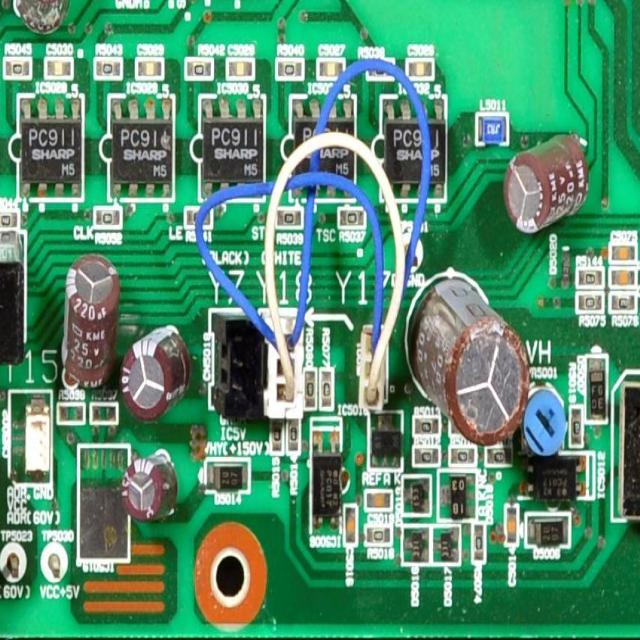IC: (109, 96, 173, 200), (19, 95, 81, 197), (201, 98, 262, 198), (384, 99, 445, 197), (293, 101, 354, 195), (80, 448, 128, 560), (312, 428, 344, 526), (520, 454, 586, 500), (369, 412, 403, 470), (438, 472, 478, 520), (432, 526, 460, 565), (404, 476, 431, 516), (403, 528, 431, 566)
capacitor: (405, 280, 532, 445), (504, 142, 590, 232), (120, 323, 192, 416), (66, 256, 116, 389), (125, 451, 176, 524), (20, 0, 69, 26), (44, 57, 72, 81), (228, 57, 255, 80), (136, 58, 162, 81), (505, 506, 519, 548), (610, 267, 636, 289), (318, 60, 345, 81), (610, 244, 638, 264), (344, 505, 357, 547), (366, 489, 392, 508), (410, 60, 434, 78)
connector: (214, 314, 264, 412), (267, 317, 303, 417), (10, 393, 50, 482)
resistor: (186, 57, 213, 81), (610, 293, 638, 316), (577, 293, 603, 316), (569, 407, 583, 448), (414, 416, 440, 438), (366, 524, 393, 545), (277, 60, 305, 80), (472, 522, 485, 565), (96, 209, 121, 231), (368, 58, 394, 79), (414, 446, 441, 466), (449, 447, 476, 467), (4, 58, 30, 78), (185, 208, 211, 228), (339, 208, 365, 228), (95, 58, 122, 77), (320, 370, 333, 409), (487, 448, 512, 468), (277, 209, 303, 228), (305, 371, 318, 408), (577, 270, 603, 288), (59, 404, 84, 422), (91, 404, 117, 421), (271, 422, 284, 454), (288, 422, 298, 455), (0, 212, 19, 228)
